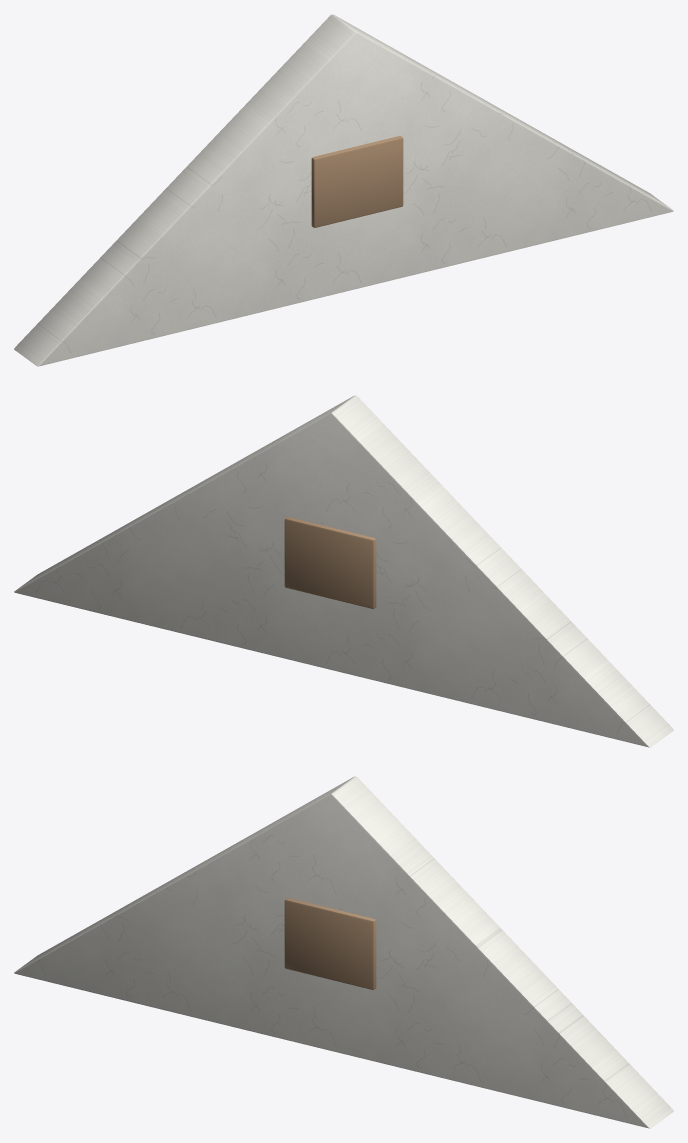
File: th34_dach_giebel.glb
3 views of the same model, one above another, from view 1: azimuth 30°, elevation 25°; view 2: azimuth 150°, elevation 25°; view 3: azimuth 330°, elevation 25° (orthographic).
Visible parts, largest first — view 1: Giebel, Cube; view 2: Giebel, Cube; view 3: Giebel, Cube.
Boxes of the visible parts, bbox=[...] form: Giebel: bbox=[14, 14, 673, 366]; Cube: bbox=[311, 136, 403, 227]; Giebel: bbox=[14, 395, 673, 747]; Cube: bbox=[284, 517, 376, 608]; Giebel: bbox=[14, 776, 673, 1128]; Cube: bbox=[284, 898, 376, 989].
Bounding box in the file's own units: 4.39 × 1.7 × 0.36.
Materials: 3 (1 with a texture image).
